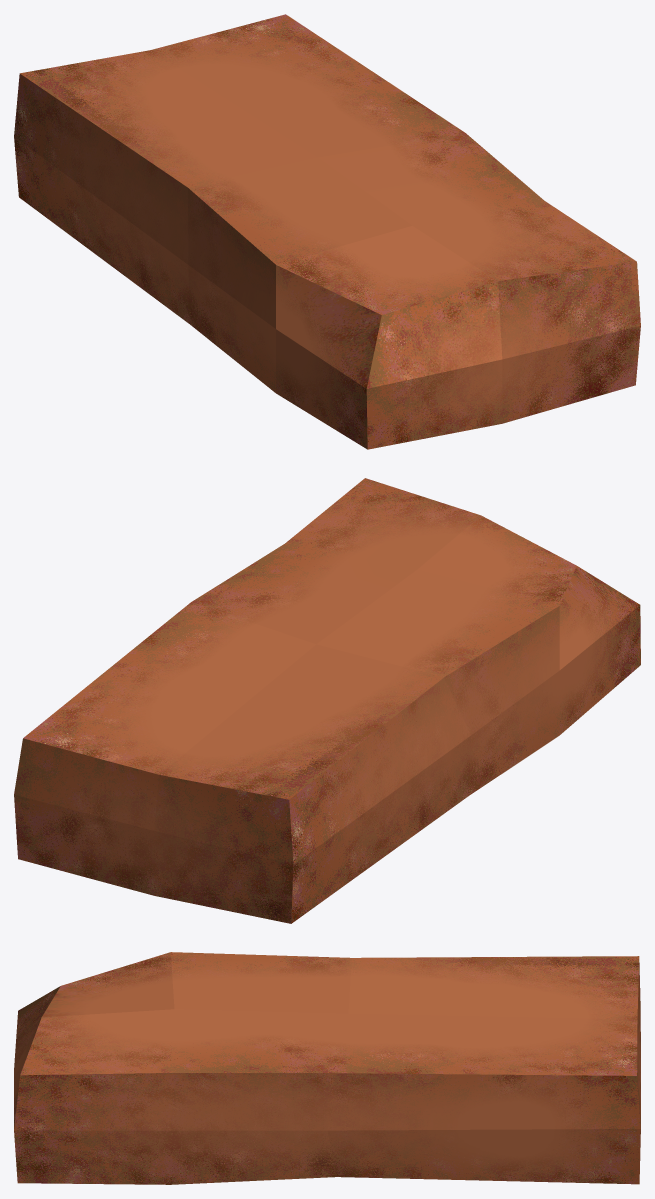
File: brick.fbx
3 views of the same model, one above another, from view 1: azimuth 30°, elevation 25°; view 2: azimuth 150°, elevation 25°; view 3: azimuth 270°, elevation 25° (orthographic). The views are drawn at different scales.
Parts seen in each view (by area): view 1: Cube; view 2: Cube; view 3: Cube.
Part boxes in pixels (x1,y1,x2,y2): Cube: [14, 14, 640, 449]; Cube: [14, 478, 640, 923]; Cube: [14, 952, 640, 1184].
Size of the model in its own units: 77.97 by 35.54 by 171.
